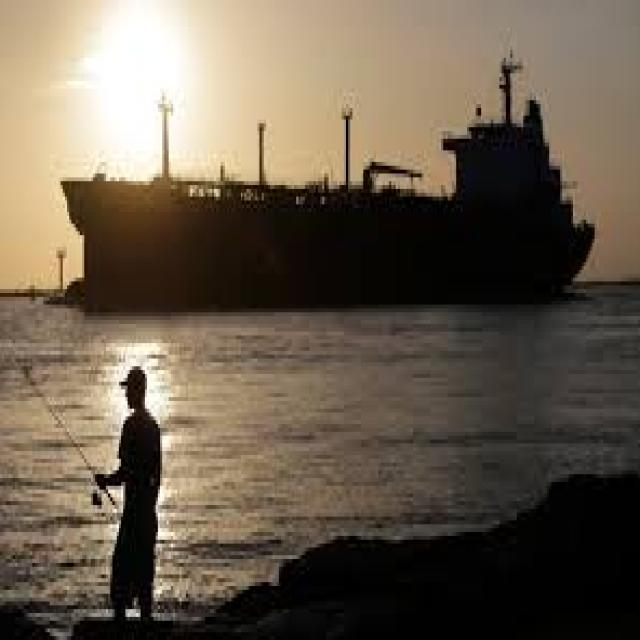cargoship: (64, 46, 606, 301)
